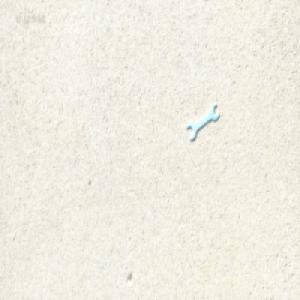Wrench: (186, 105, 217, 141)
